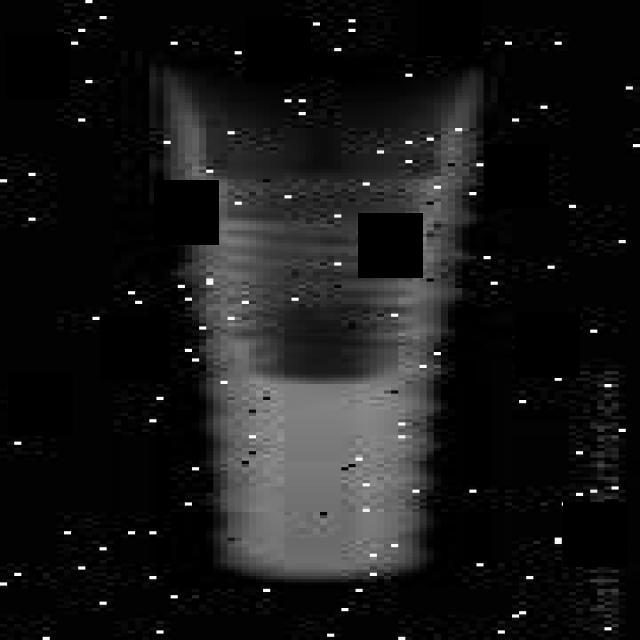Leone Implant: (138, 51, 491, 599)
